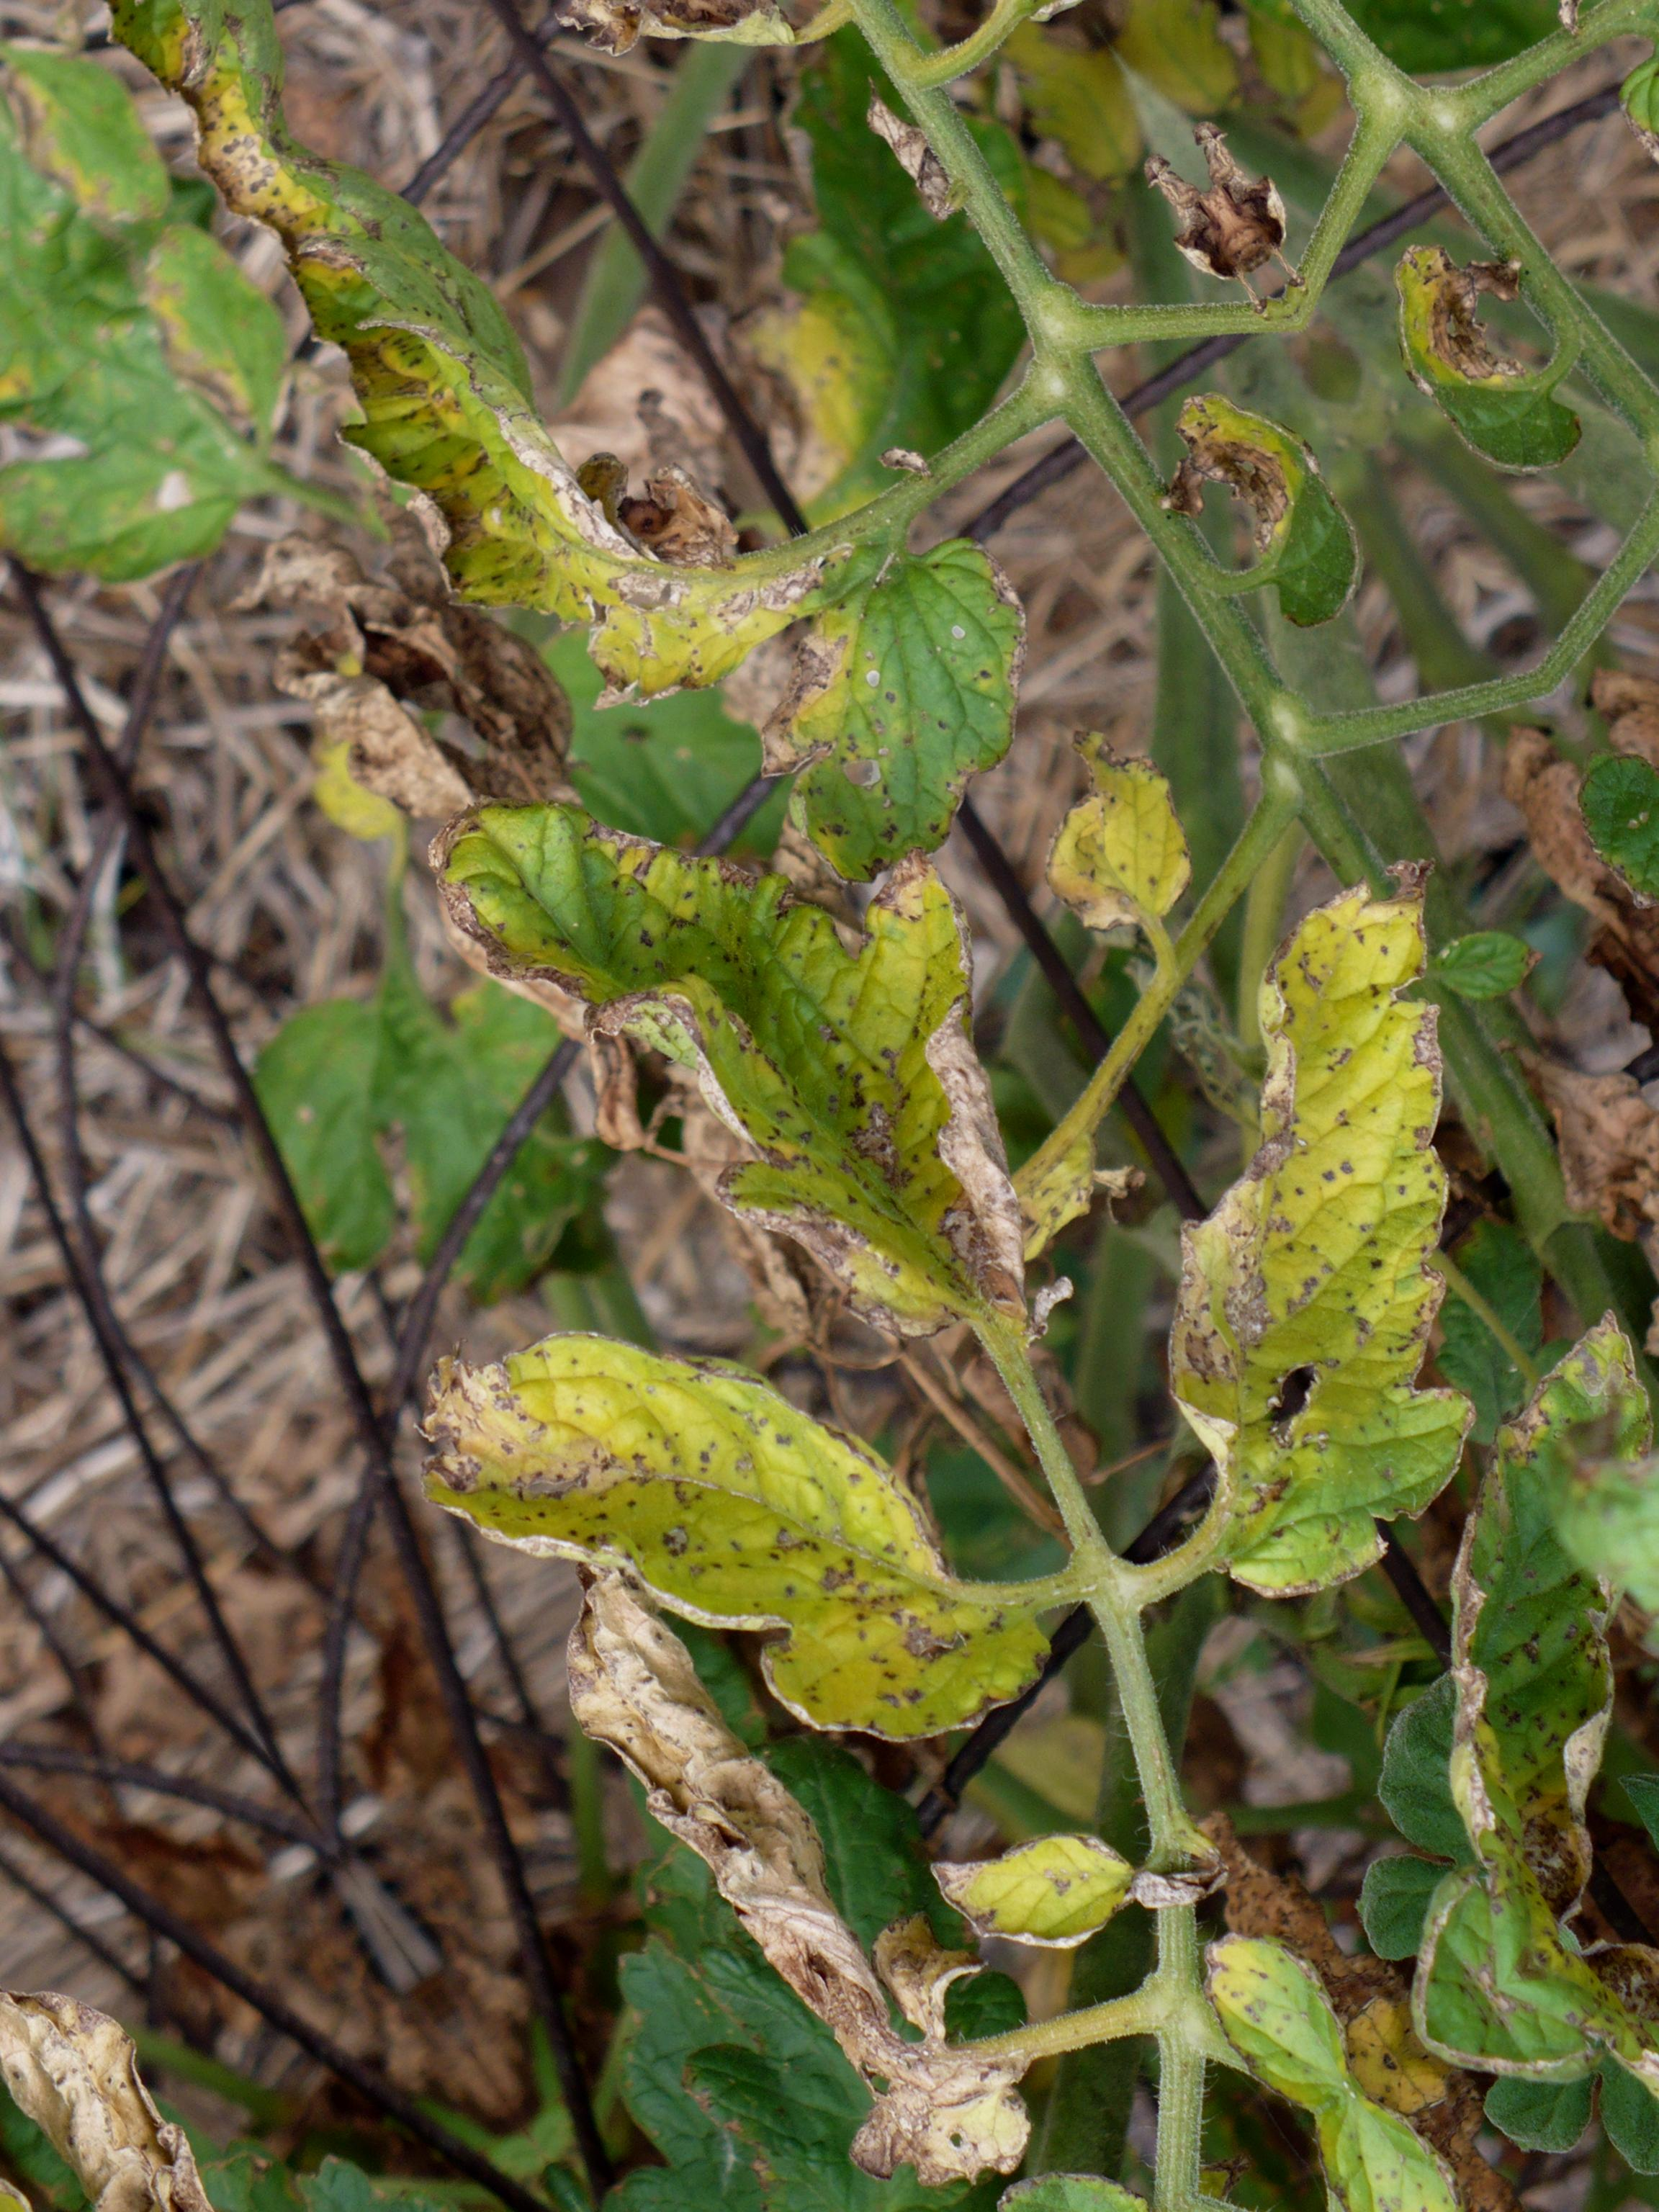Tomato Septoria leaf spot: (186, 0, 1157, 970), (887, 798, 1659, 1672), (392, 622, 1171, 1456), (415, 1151, 1108, 1892)
